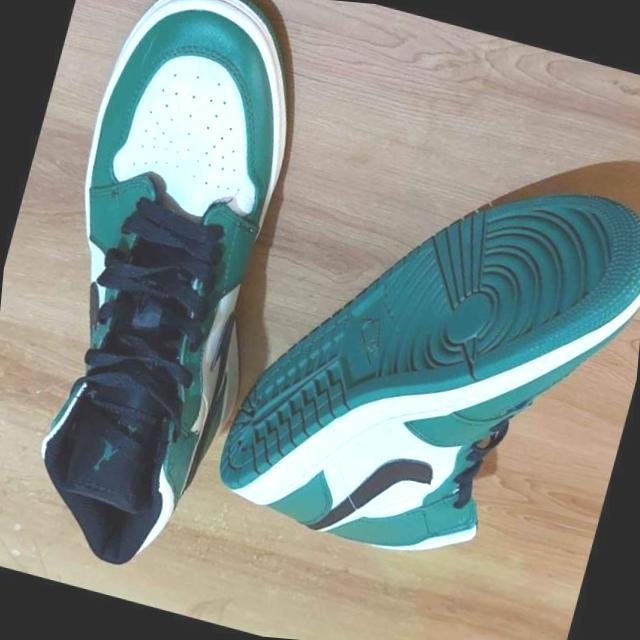nike_fake_jordan: (0, 0, 345, 595)
